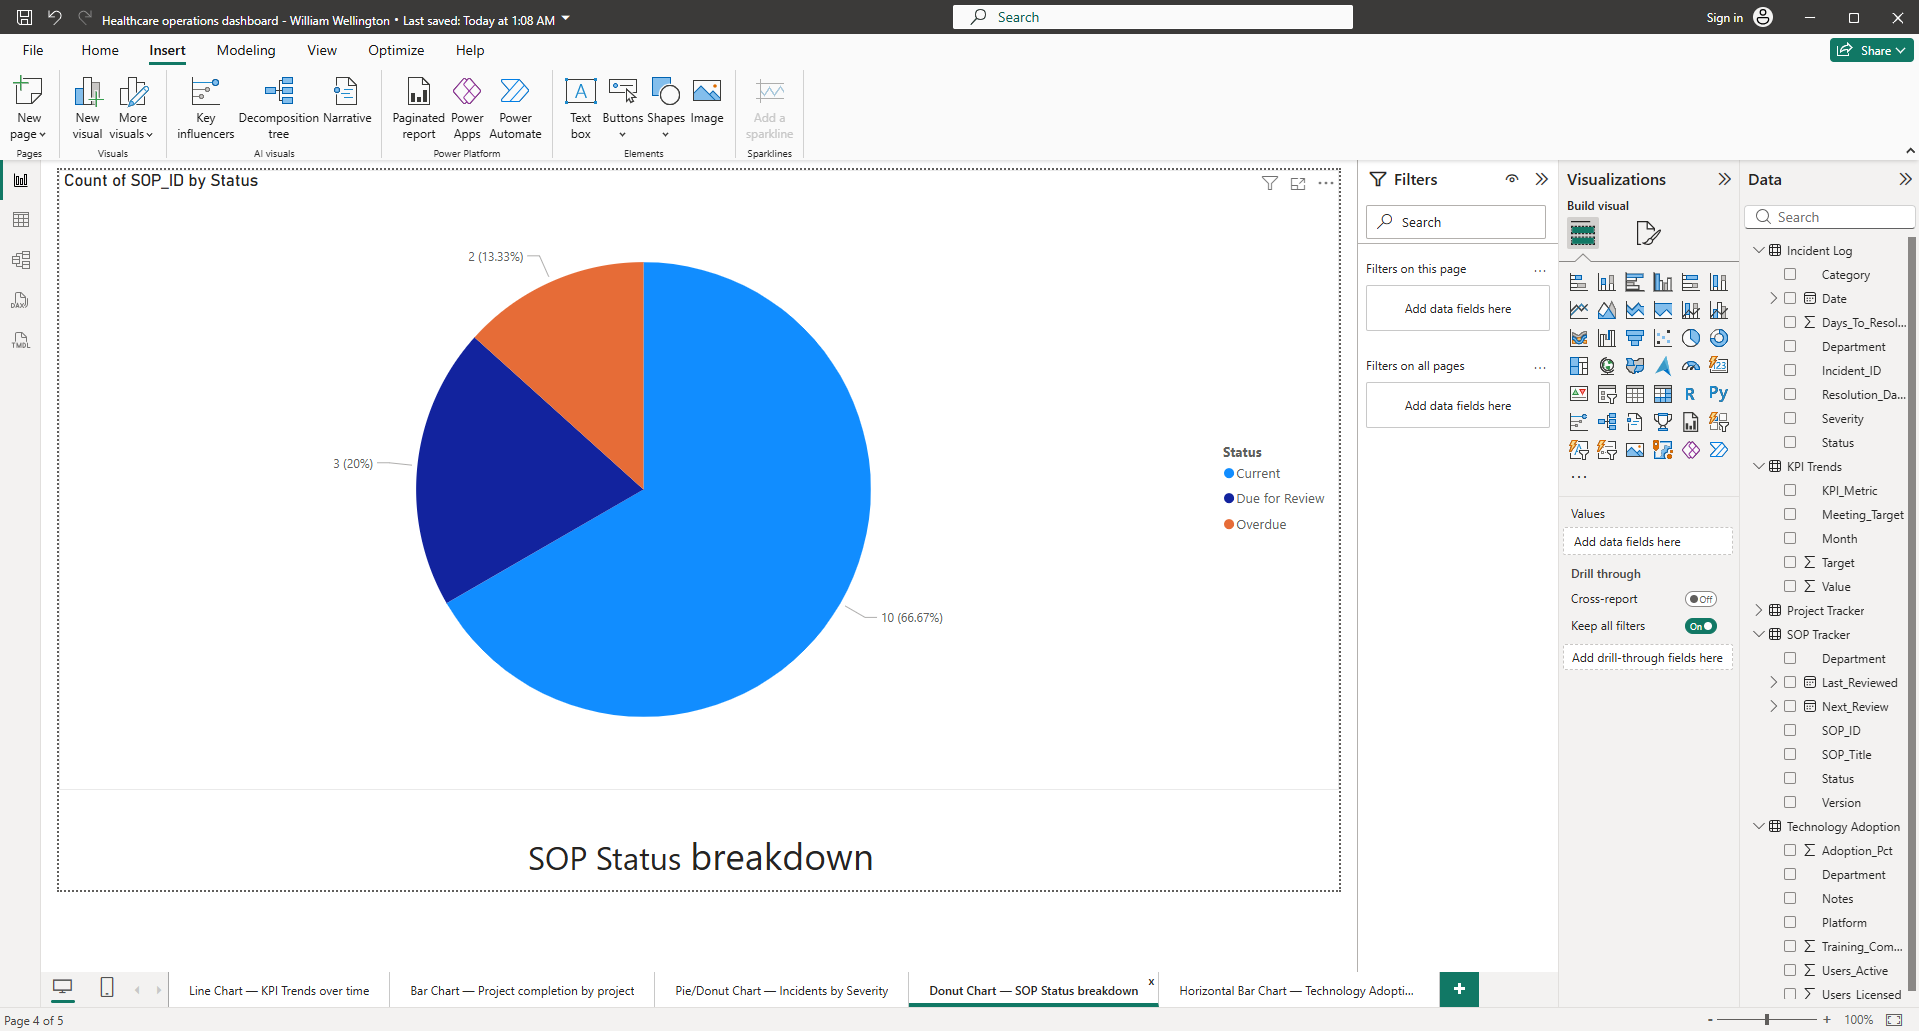

This screenshot's page, from the dashboard's own definition file:
{"tool":"powerbi","page":{"name":"Donut Chart — SOP Status breakdown","canvas":[1280,720],"ordinal":3},"visuals":[{"type":"pieChart","fields":{"Category":["SOP Tracker.Status"],"Y":["CountNonNull(SOP Tracker.SOP_ID)"]},"box":[0,0,1280,619.6],"z":0},{"type":"textbox","box":[464,654.6,360.9,65.2],"z":1000}]}

Visuals, with their boxes on the page's 1280x720 design canvas (x1, y1, x2, y2). These are canvas units, not pixel positions in the 1919x1031 screenshot, which may show the page scaled, cropped or inside an application window:
pieChart - SOP Tracker.Status x CountNonNull(SOP Tracker.SOP_ID): 0/0/1280/620
textbox: 464/655/825/720
